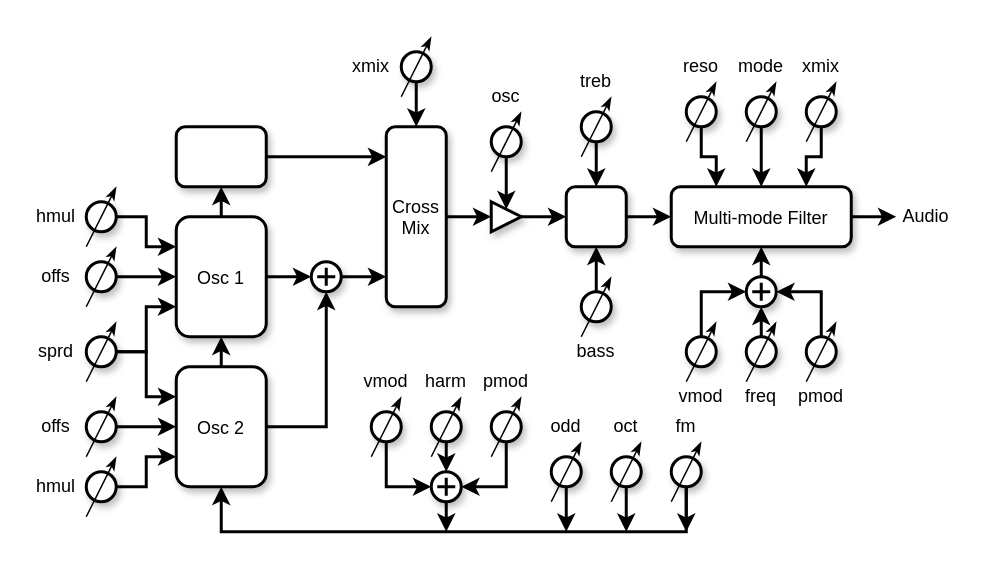
Some shapes in this 981 by 572 pixel diagram are drawn without their labels. The centre of each missing label's shape, as x and y in pixels:
"EQ" belongs at [597,218].
"Osc 0" belongs at [222,158].
